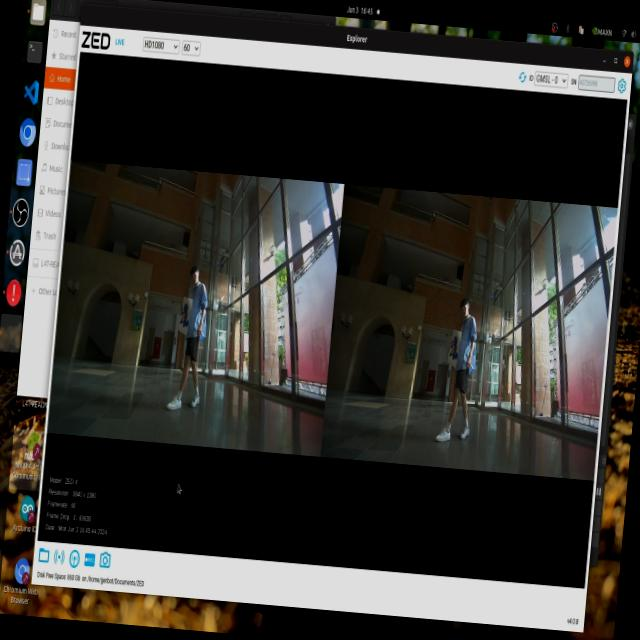blue: (446, 332, 464, 363), (175, 299, 192, 330)
